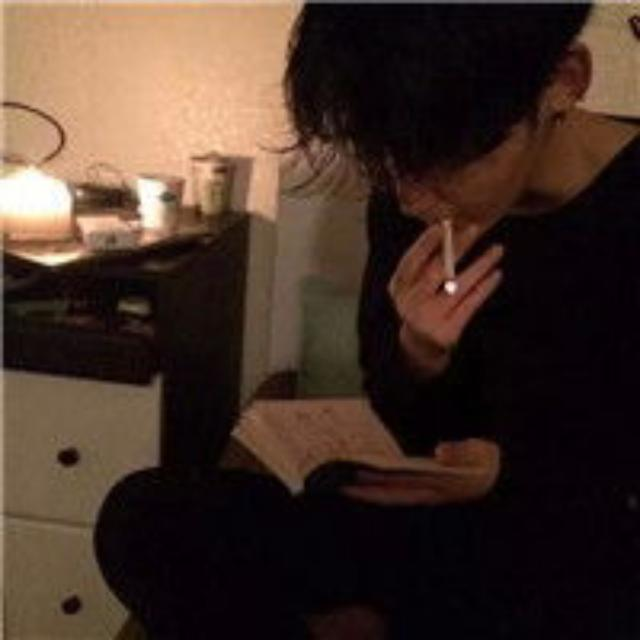Cigarette: (436, 216, 464, 296)
